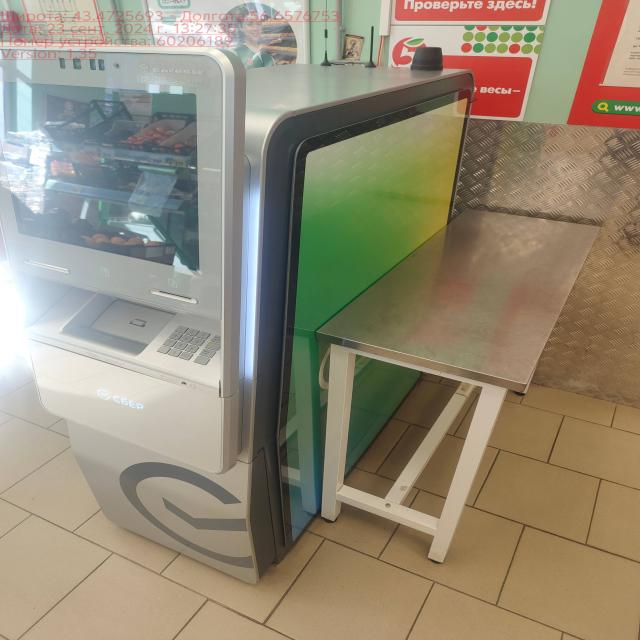bank: (0, 42, 471, 589)
